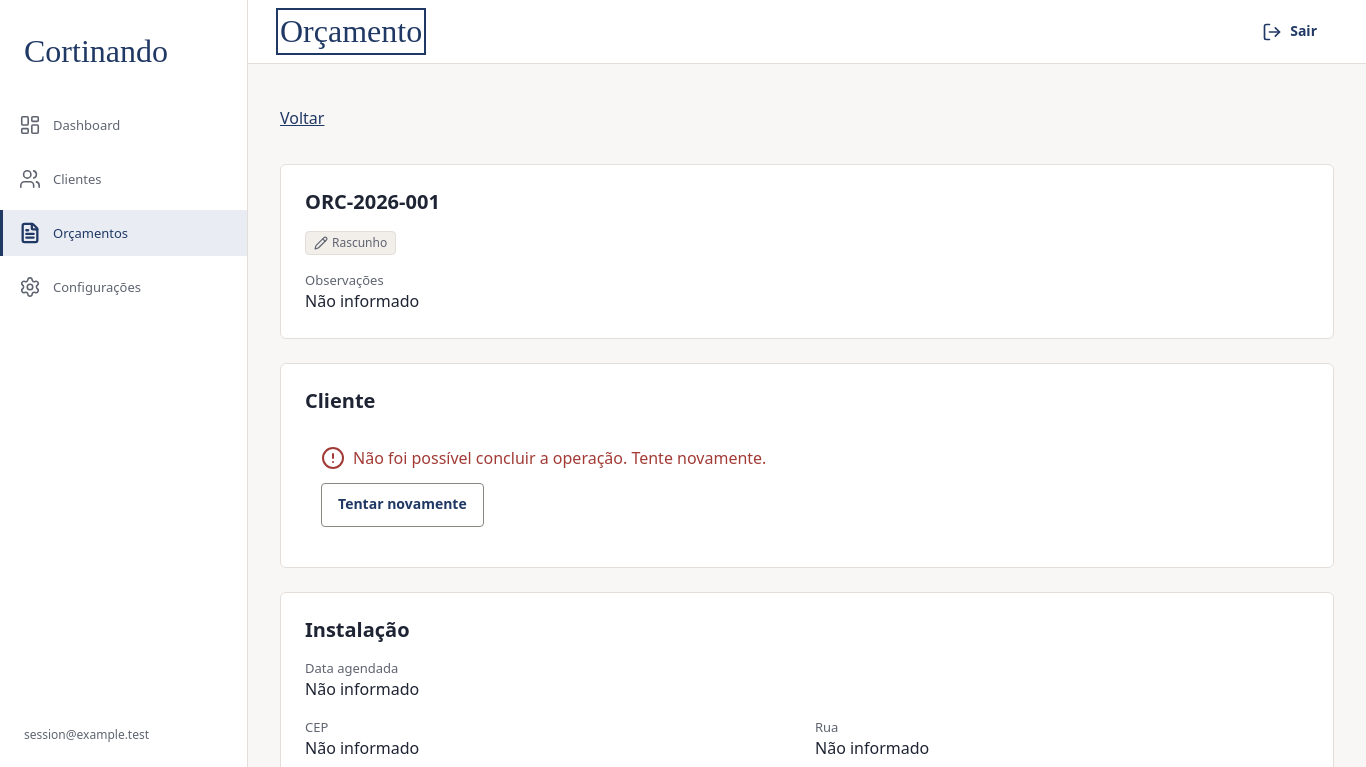
Test: retries customer lookup independently of the preserved quote
Expected: the message "Não foi possível concluir a operação. Tente novamente." is shown, [321, 446, 766, 471]
Click the button "Tentar novamente".
click(402, 505)  # box [321, 483, 484, 527]
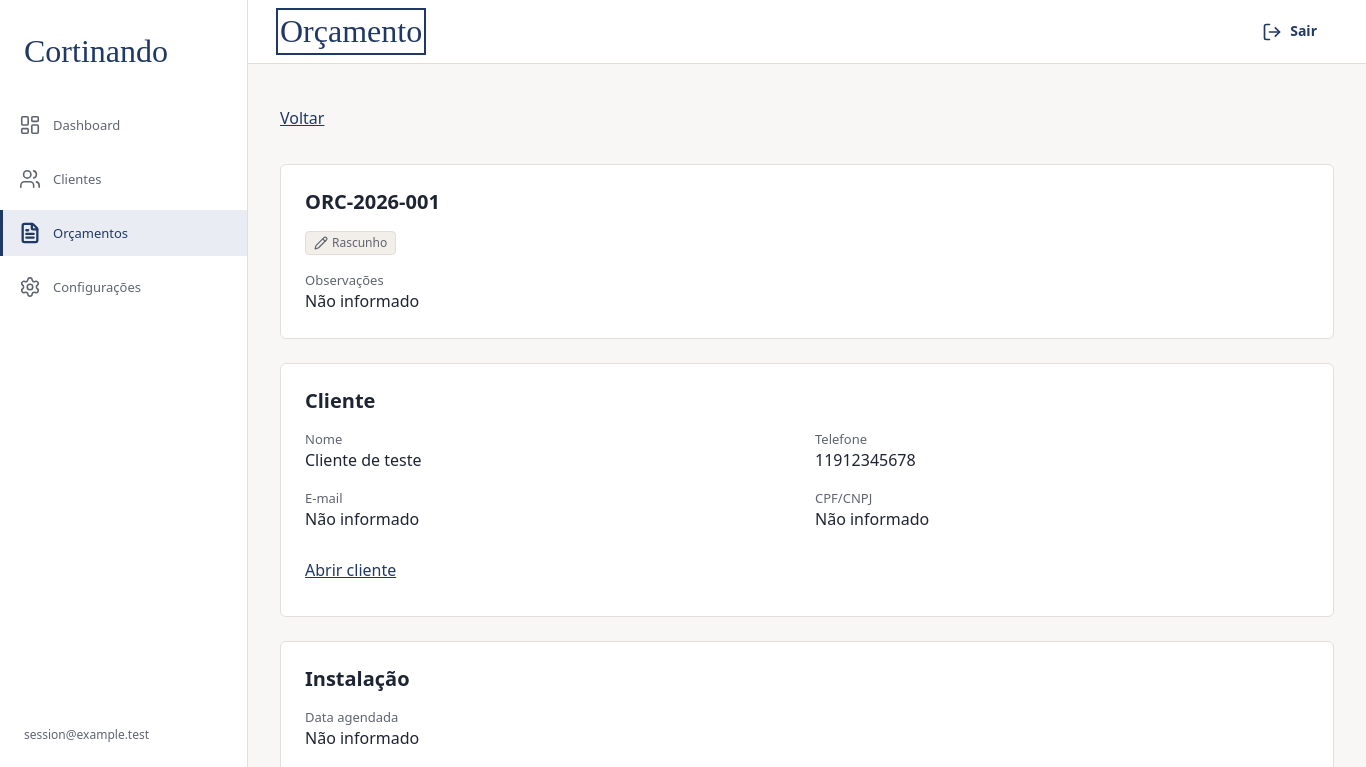
Now the text "Cliente de teste" is shown, box [305, 449, 422, 471]
